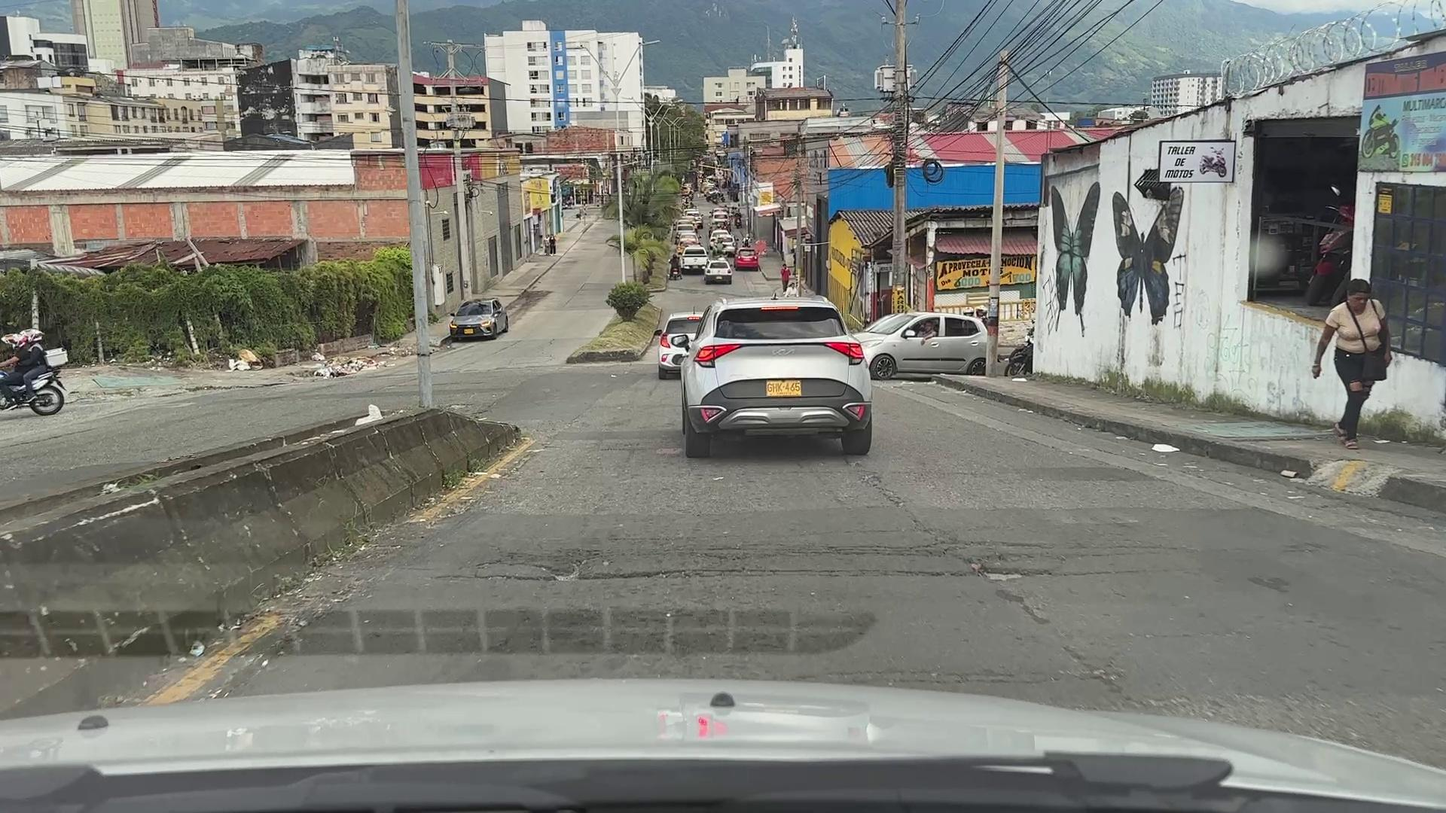bache: (503, 560, 678, 582), (911, 558, 1056, 580)
grieta: (774, 461, 1053, 557)
